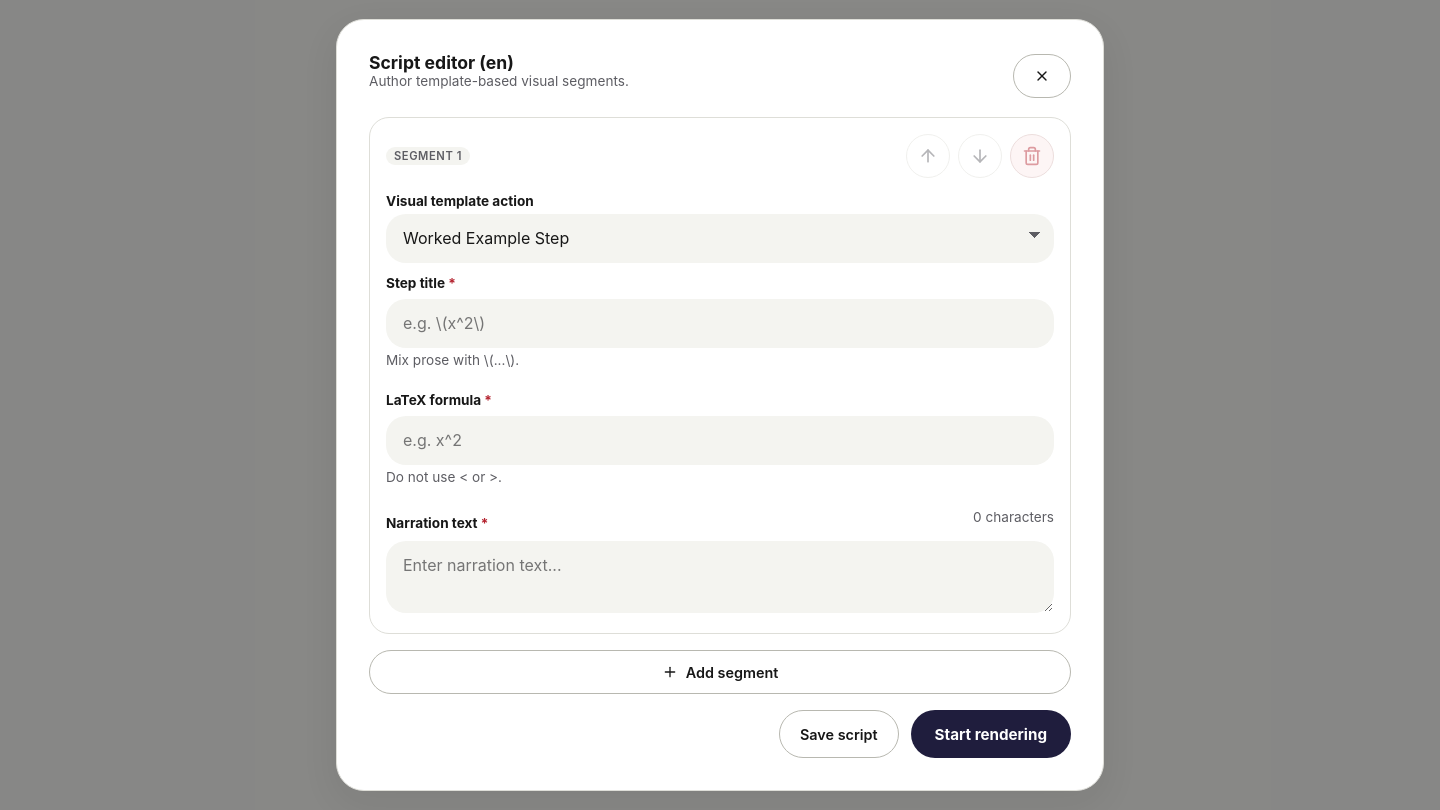
Test case: ScriptEditor › shows a failure toast while keeping inline violations on a rejected save
Expected: the text "Segment 1" is shown, [386, 146, 470, 164]
What coordinates should you click on to do the following:
click the button "Save script"
I would click on:
 (839, 734)
Its box is [779, 710, 899, 758].
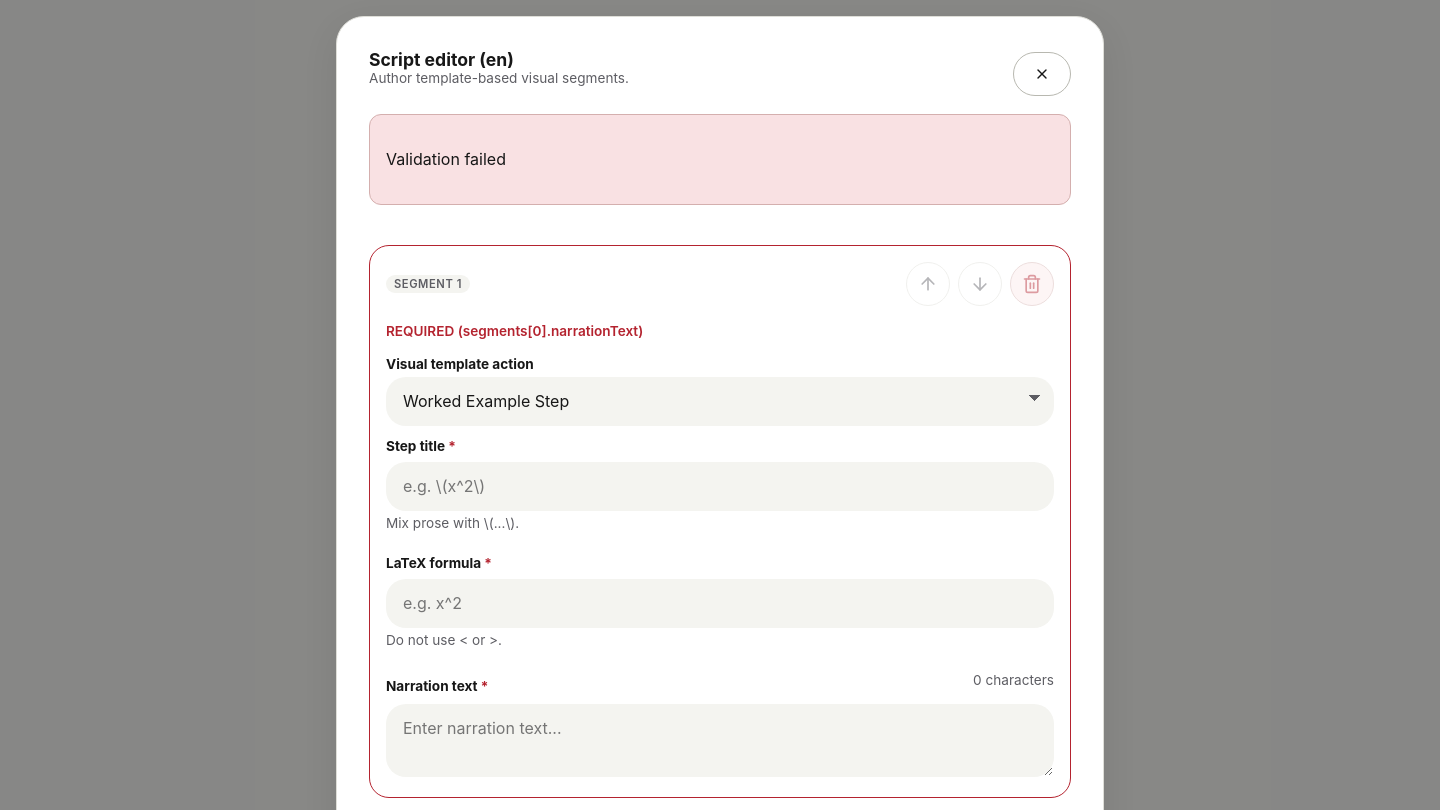
Expected: the text "REQUIRED (segments[0].narrationText)" is shown, [386, 323, 643, 339]
